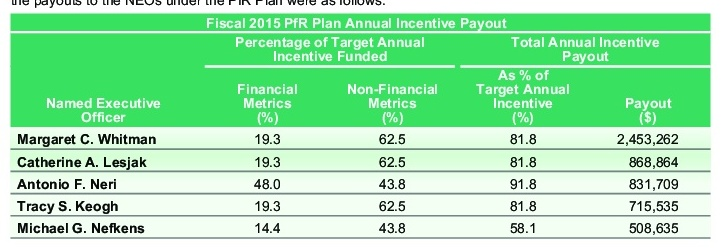table: (0, 0, 725, 248)
